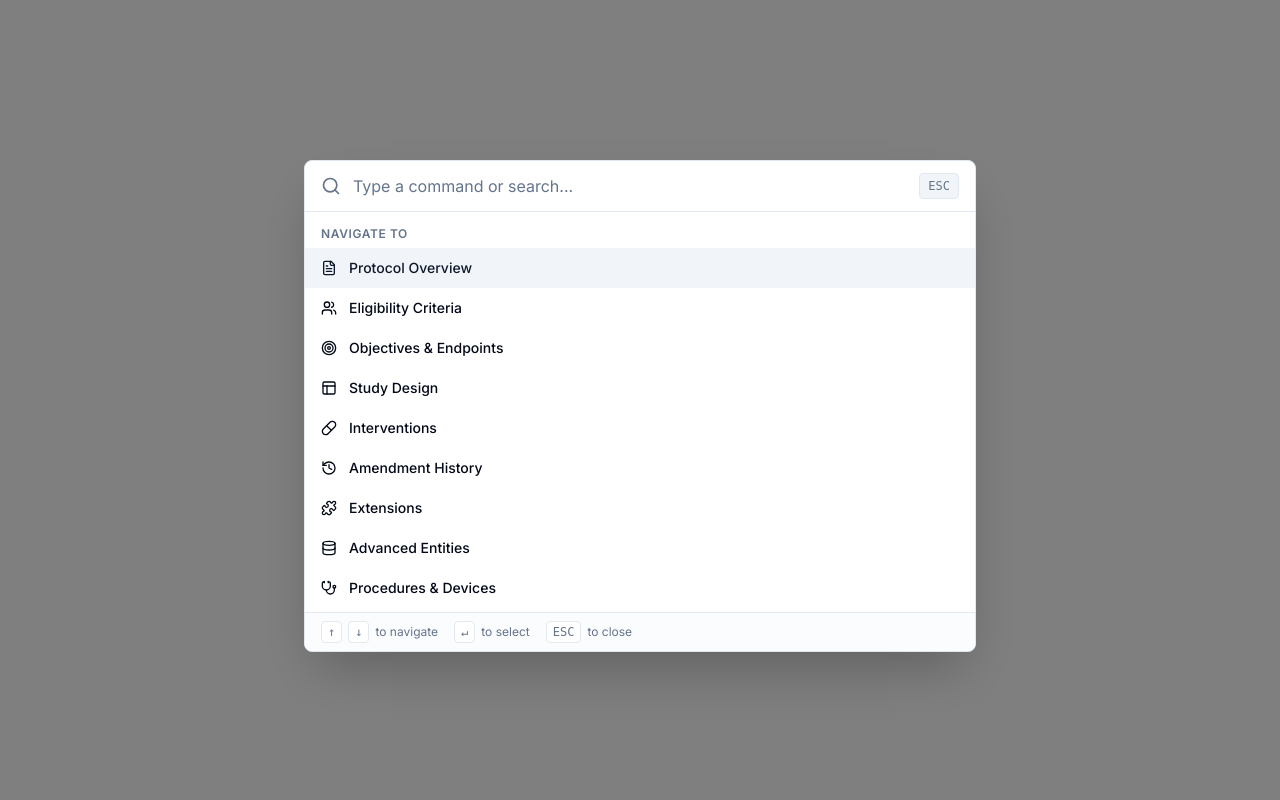
CommandPalette › Fuzzy Search › should filter commands based on query
Type "soa" into the field with placeholder "Type a command or search...".
click(630, 186); type("soa")  # box [353,174,907,198]
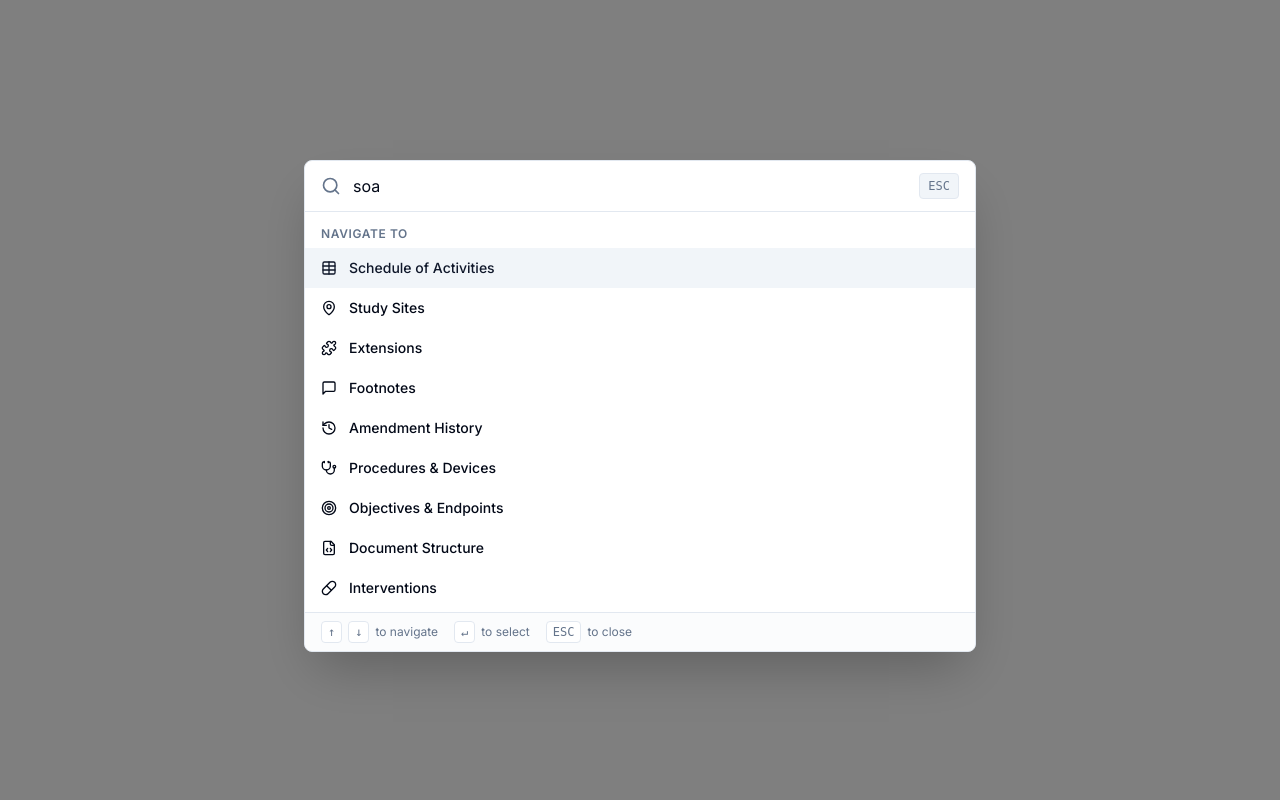
Now the text "Schedule of Activities" is shown, box [349,259,495,276]
Now the option "Protocol Overview" is gone
